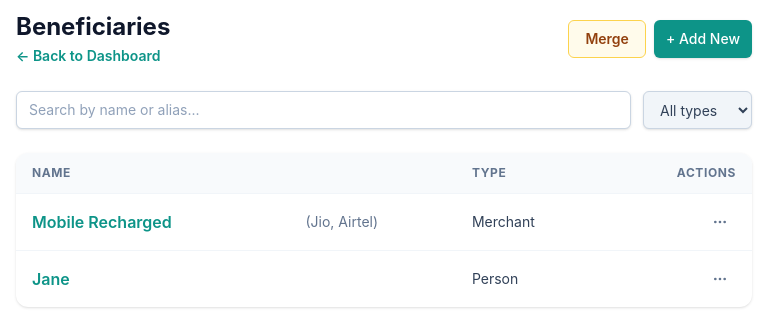
it: BeneficiariesPage › filters by search and type
Expected: the button "Jane" is shown, [32,267,70,291]
Type "Jio" into the search field with placeholder "Search by name or alias..." at (324, 110), box [16,91,631,129]
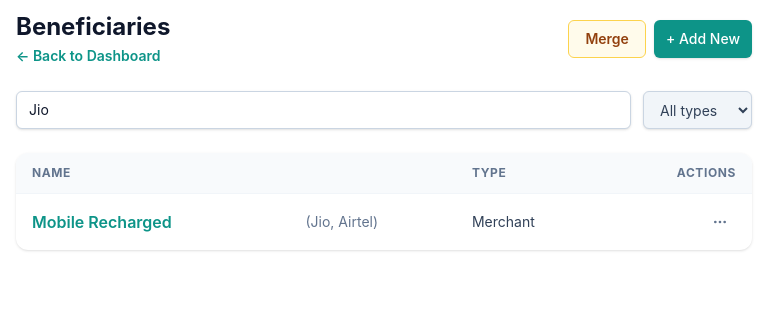
Expected: the button "Mobile Recharged" is shown, [32,210,172,234]
Expected: the button "Jane" is gone
Clear the search field with placeholder "Search by name or alias..." at (324, 110), box [16,91,631,129]
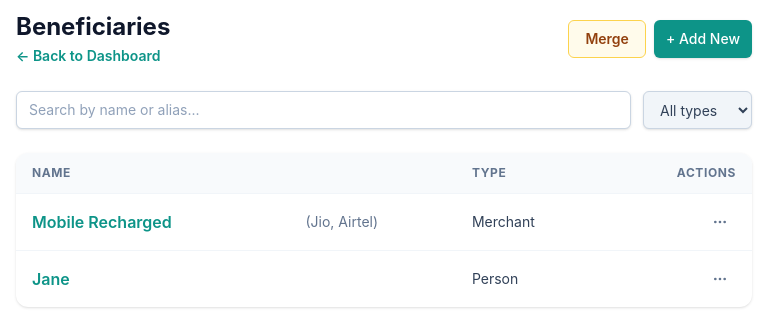
Select "Person" in the dropdown named "Filter by type" at (698, 110), box [643,91,752,129]
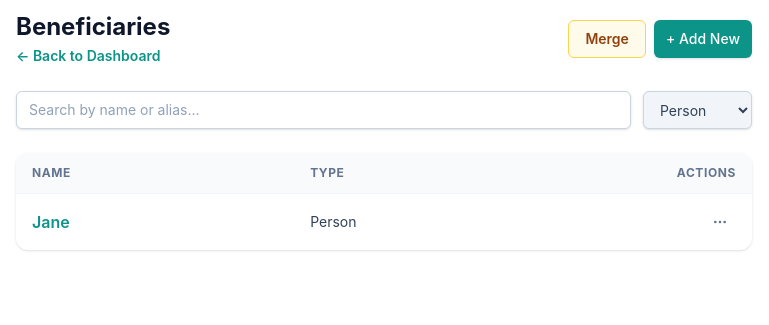
Expected: the button "Jane" is shown, [32,210,70,234]
Expected: the button "Mobile Recharged" is gone
